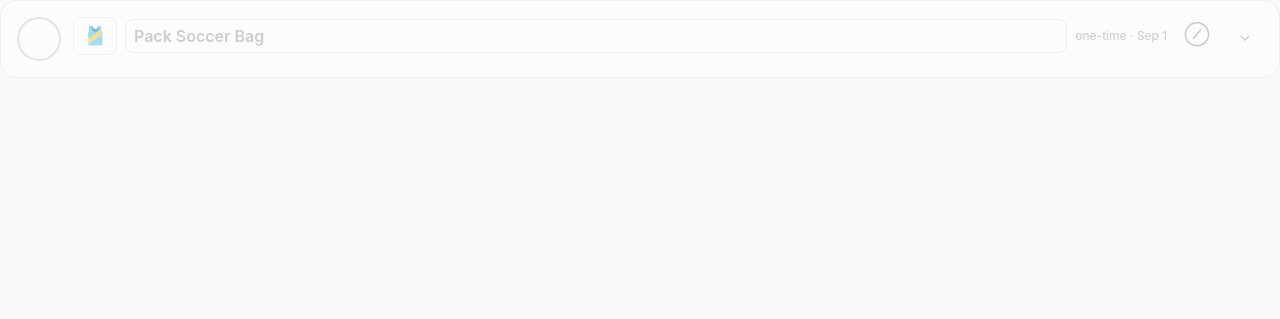
ItemCard recurring/one-time toggle › renders the date input and one-time label for an item with a date
This screenshot has width=1280, height=319.
Click the button named "expand details" at (1245, 35), box [1227, 17, 1263, 53]
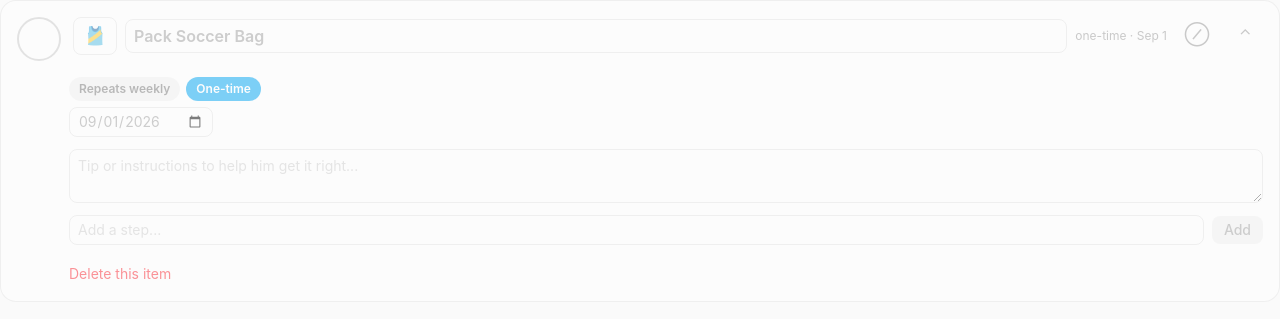
Expected: the text "one-time · Sep 1" is shown, [1075, 28, 1167, 44]
Expected: the date field is shown, [69, 107, 213, 137]
